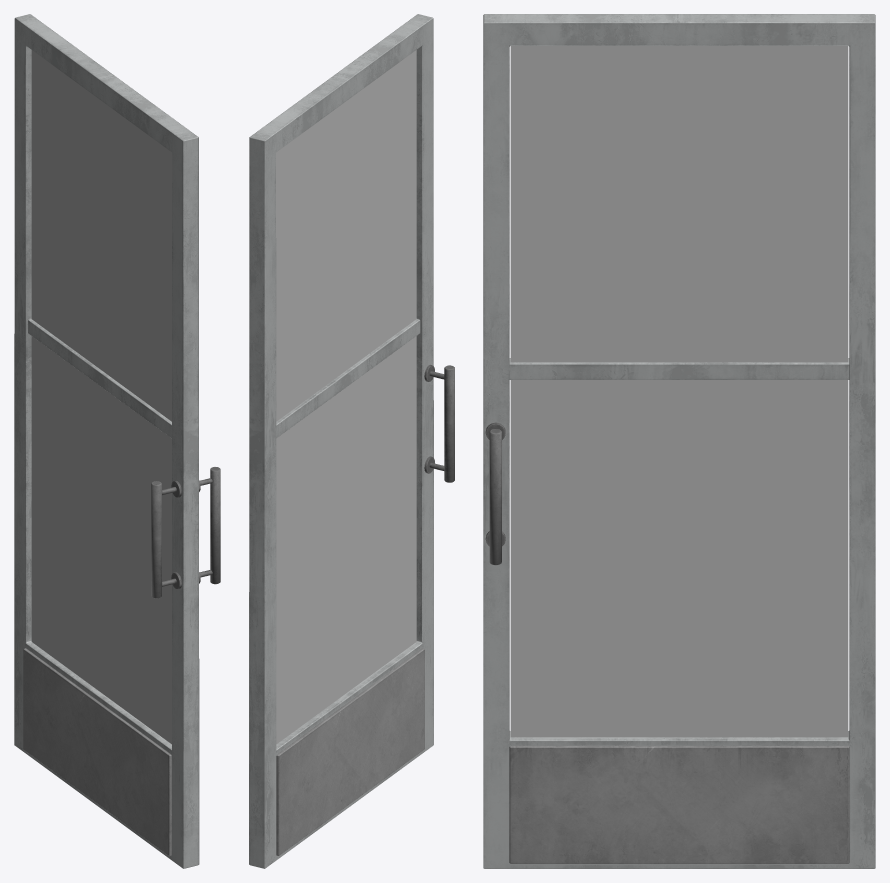
File: SM_Door_School_01.fbx
The picture shows the model from 3 angles, left to right: view 1: azimuth 30°, elevation 25°; view 2: azimuth 150°, elevation 25°; view 3: azimuth 270°, elevation 25°; orthographic projection. The views are drawn at different scales.
Parts seen in each view (by area): view 1: SM_Door_School_01_LOD0; view 2: SM_Door_School_01_LOD0; view 3: SM_Door_School_01_LOD0.
Boxes of the visible parts, x1,y1,x2,y2 form: SM_Door_School_01_LOD0: (14,14,220,868); SM_Door_School_01_LOD0: (249,14,454,868); SM_Door_School_01_LOD0: (483,14,875,868).
Size of the model in its own units: 20.88 by 89.88 by 214.
Materials: 2 (1 with a texture image).
